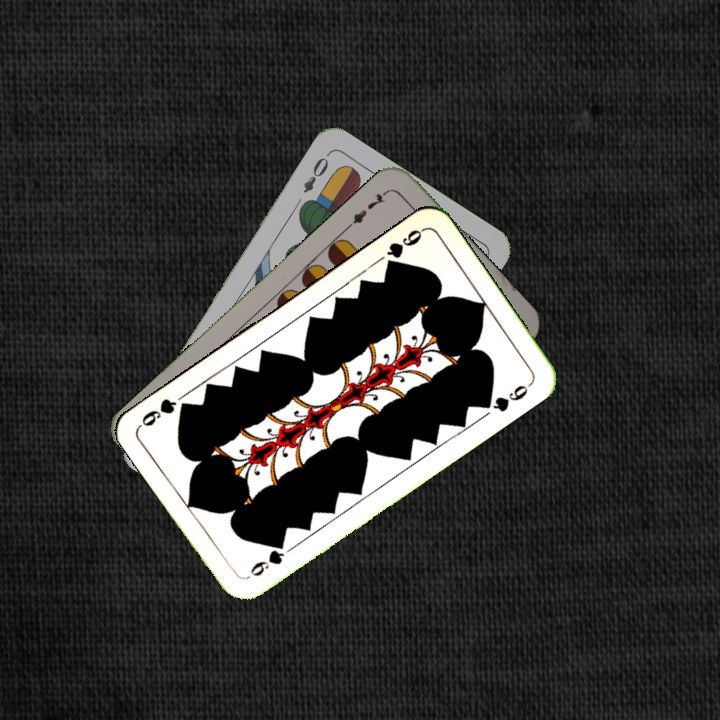E7: (343, 186, 391, 231)
EO: (299, 149, 333, 196)
G9: (381, 224, 427, 272), (246, 538, 288, 579)
